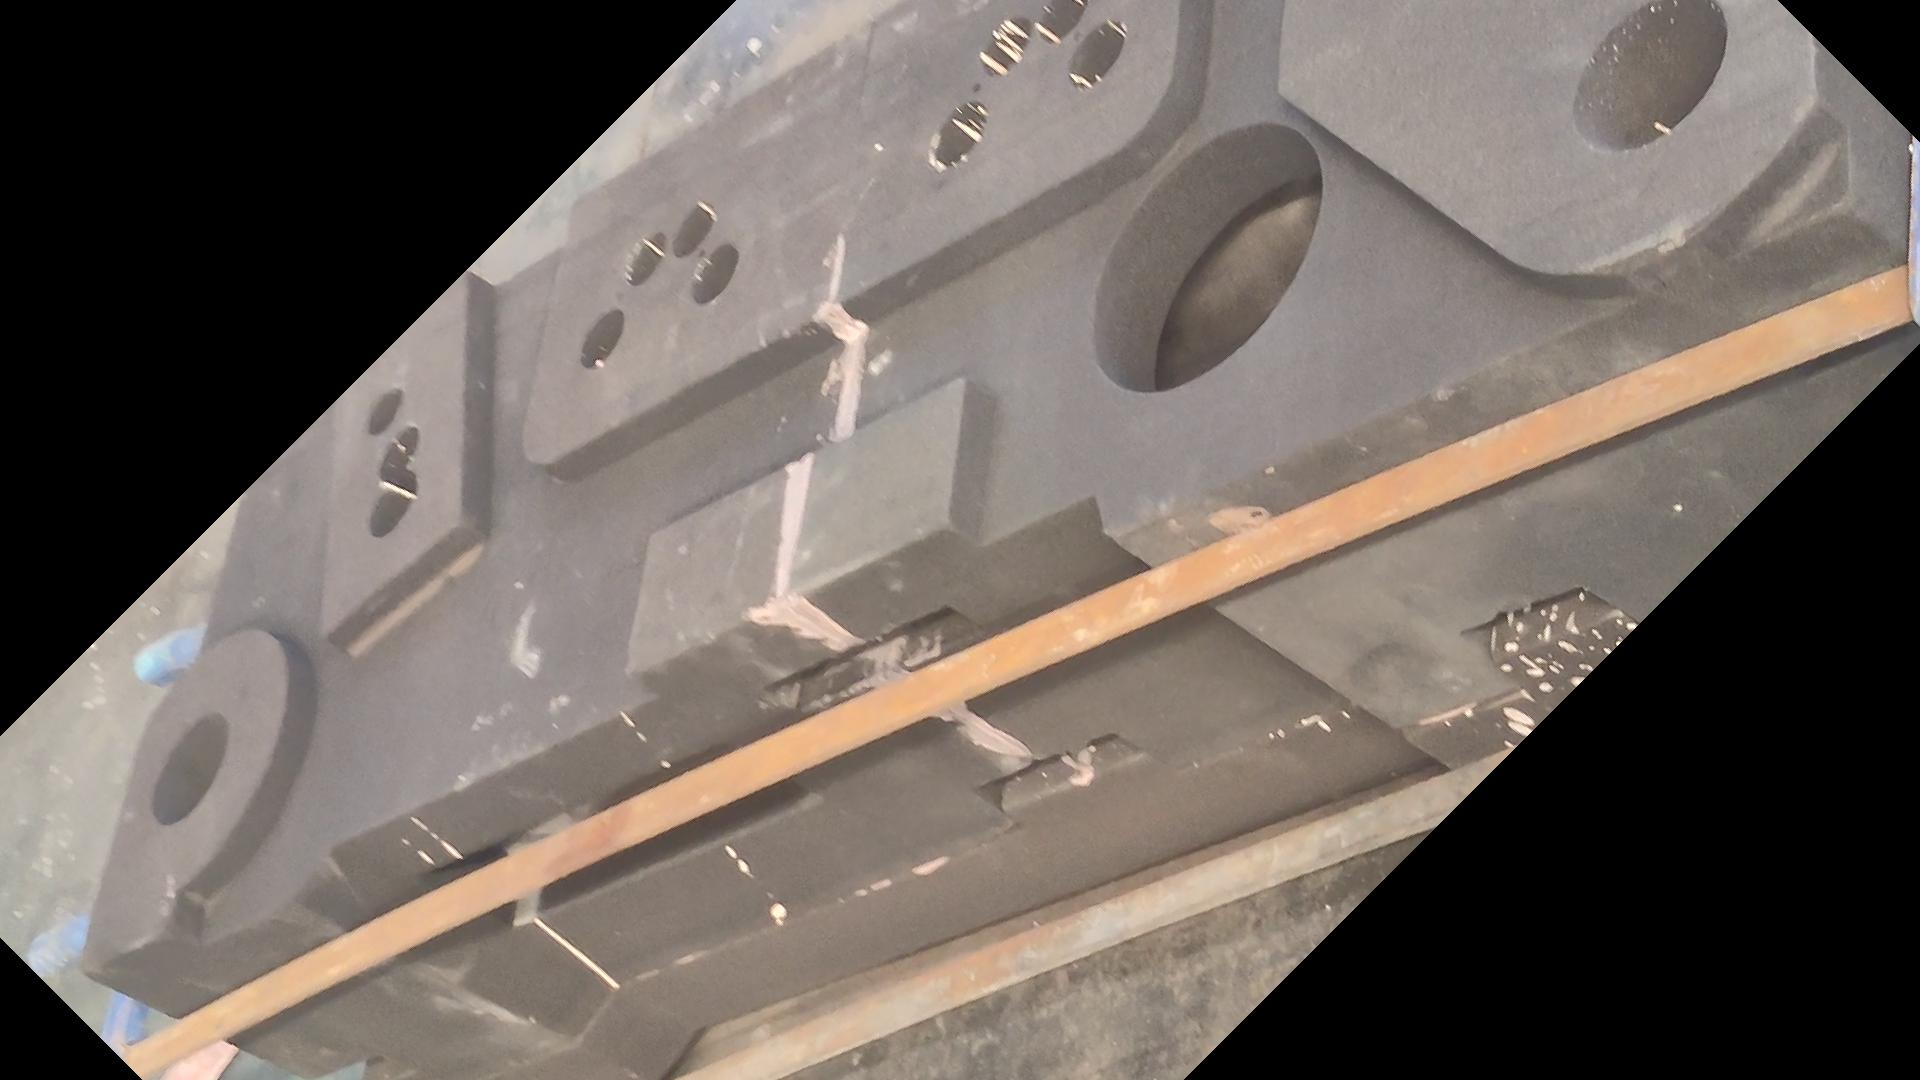pouring hole: (1569, 1, 1729, 154), (152, 712, 229, 824)
